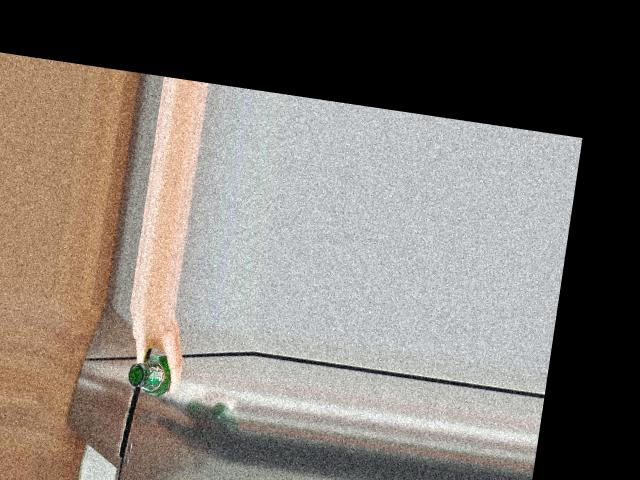beer: (125, 351, 174, 398)
